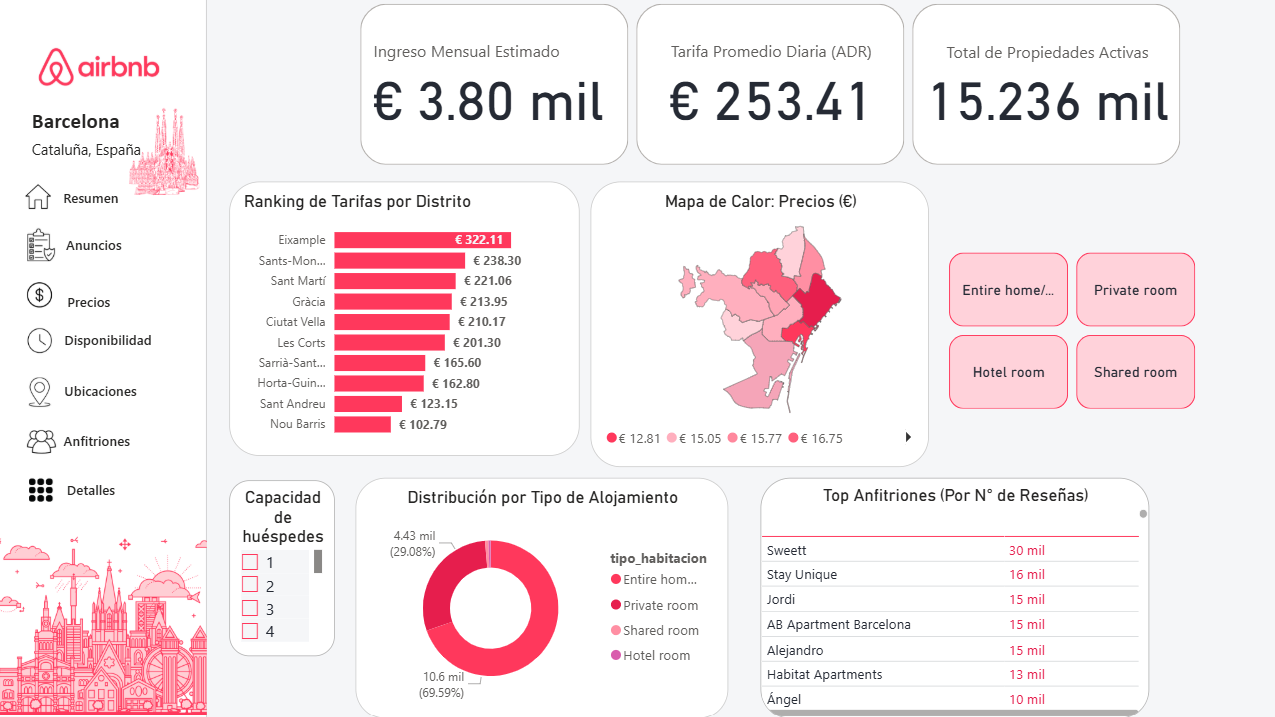

Layout of this report page (visuals, bound fields, positions):
{"tool":"powerbi","page":{"name":"Resumen","canvas":[1280,720],"ordinal":0},"visuals":[{"type":"shapeMap","title":"Mapa de Calor: Precios (€)","fields":{"Category":["listings_limpio.distrito"],"Value":["Avg(listings_limpio.precio)"],"Series":["listings_limpio.precio"]},"box":[592.9,182.9,338.6,285.7],"z":0},{"type":"listSlicer","title":"Capacidad de huéspedes","fields":{"Values":["listings_limpio.capacidad_huespedes"]},"box":[231.4,481.4,105.7,175.7],"z":1000},{"type":"clusteredBarChart","title":"Ranking de Tarifas por Distrito","fields":{"Category":["listings_limpio.distrito"],"Y":["Avg(listings_limpio.precio)"]},"box":[231.4,182.9,350,274.3],"z":2000},{"type":"cardVisual","fields":{"Data":["medidas.Ingreso Mensual Estimado","Avg(listings_limpio.precio)","CountNonNull(listings_limpio.id_anuncio)"]},"box":[357.1,0,831.4,171.4],"z":3000},{"type":"advancedSlicerVisual","fields":{"Values":["listings_limpio.tipo_habitacion"]},"box":[945.7,248.6,257.1,167.1],"z":4000},{"type":"shape","box":[0,0,209,720],"z":5000},{"type":"image","box":[28.8,31.2,150,72.5],"z":6000},{"type":"textbox","box":[28.8,135,162.5,35],"z":7000},{"type":"textbox","box":[28.8,103.8,108.8,40],"z":8000},{"type":"image","box":[126.2,82.5,81.2,140],"z":9000},{"type":"image","box":[0,534.3,208.6,185.7],"z":10000},{"type":"donutChart","title":"Distribución por Tipo de Alojamiento","fields":{"Category":["listings_limpio.tipo_habitacion"],"Y":["CountNonNull(listings_limpio.tipo_habitacion)"]},"box":[357.1,478.6,372.9,241.4],"z":11000},{"type":"tableEx","title":"Top Anfitriones (Por N° de Reseñas)","fields":{"Values":["listings_limpio.nombre_anfitrion","Sum(listings_limpio.cantidad_resenas)"]},"box":[762.9,478.6,388.6,241.4],"z":12000},{"type":"actionButton","title":"Precios","box":[8.4,293.2,164.1,32.6],"z":13000},{"type":"actionButton","title":"Anuncios","box":[16.9,236.5,156.8,31.4],"z":14000},{"type":"actionButton","title":"Disponibilidad","box":[35,331.2,150,33.8],"z":15000},{"type":"actionButton","title":"Ubicaciones","box":[28.8,382.5,147.5,33.8],"z":16000},{"type":"actionButton","title":"Anfitriones","box":[23.8,432.5,150,35],"z":17000},{"type":"actionButton","title":"Detalles","box":[16.9,481.4,150.8,35],"z":18000},{"type":"image","box":[24.2,224.2,40.8,43.3],"z":19000},{"type":"image","box":[18.3,315,48.3,46.7],"z":20000},{"type":"image","box":[16.7,171.7,47.5,55.8],"z":21000},{"type":"image","box":[22.5,420,44.2,47.5],"z":22000},{"type":"image","box":[20,374.2,42.5,41.7],"z":23000},{"type":"image","box":[24.2,275.8,35,40],"z":24000},{"type":"image","box":[26.2,470,37.5,38.8],"z":25000},{"type":"actionButton","title":"Resumen","box":[54.3,189.4,78.4,19.3],"z":26000},{"type":"actionButton","box":[26.5,226.8,100.1,39.8],"z":27000},{"type":"actionButton","box":[26.5,470.5,100.1,39.8],"z":28000},{"type":"actionButton","box":[24.1,419.8,113.4,39.8],"z":29000},{"type":"actionButton","box":[26.5,374,120.6,39.8],"z":30000},{"type":"actionButton","box":[24.1,319.7,149.6,39.8],"z":31000},{"type":"actionButton","box":[26.5,276.3,100.1,39.8],"z":32000},{"type":"actionButton","box":[26.5,179.8,100.1,39.8],"z":33000}]}

Visuals, with their boxes on the page's 1280x720 design canvas (x1, y1, x2, y2). These are canvas units, not pixel positions in the 1275x717 screenshot, which may show the page scaled, cropped or inside an application window:
"Mapa de Calor: Precios (€)" shapeMap: 593:183:932:469
"Capacidad de huéspedes" listSlicer: 231:481:337:657
"Ranking de Tarifas por Distrito" clusteredBarChart: 231:183:581:457
cardVisual - medidas.Ingreso Mensual Estimado x Avg(listings_limpio.precio): 357:0:1188:171
advancedSlicerVisual - listings_limpio.tipo_habitacion: 946:249:1203:416
shape: 0:0:209:720
image: 29:31:179:104
textbox: 29:135:191:170
textbox: 29:104:138:144
image: 126:82:207:222
image: 0:534:209:720
"Distribución por Tipo de Alojamiento" donutChart: 357:479:730:720
"Top Anfitriones (Por N° de Reseñas)" tableEx: 763:479:1152:720
"Precios" actionButton: 8:293:172:326
"Anuncios" actionButton: 17:236:174:268
"Disponibilidad" actionButton: 35:331:185:365
"Ubicaciones" actionButton: 29:382:176:416
"Anfitriones" actionButton: 24:432:174:468
"Detalles" actionButton: 17:481:168:516
image: 24:224:65:268
image: 18:315:67:362
image: 17:172:64:228
image: 22:420:67:468
image: 20:374:62:416
image: 24:276:59:316
image: 26:470:64:509
"Resumen" actionButton: 54:189:133:209
actionButton: 26:227:127:267
actionButton: 26:470:127:510
actionButton: 24:420:138:460
actionButton: 26:374:147:414
actionButton: 24:320:174:360
actionButton: 26:276:127:316
actionButton: 26:180:127:220
